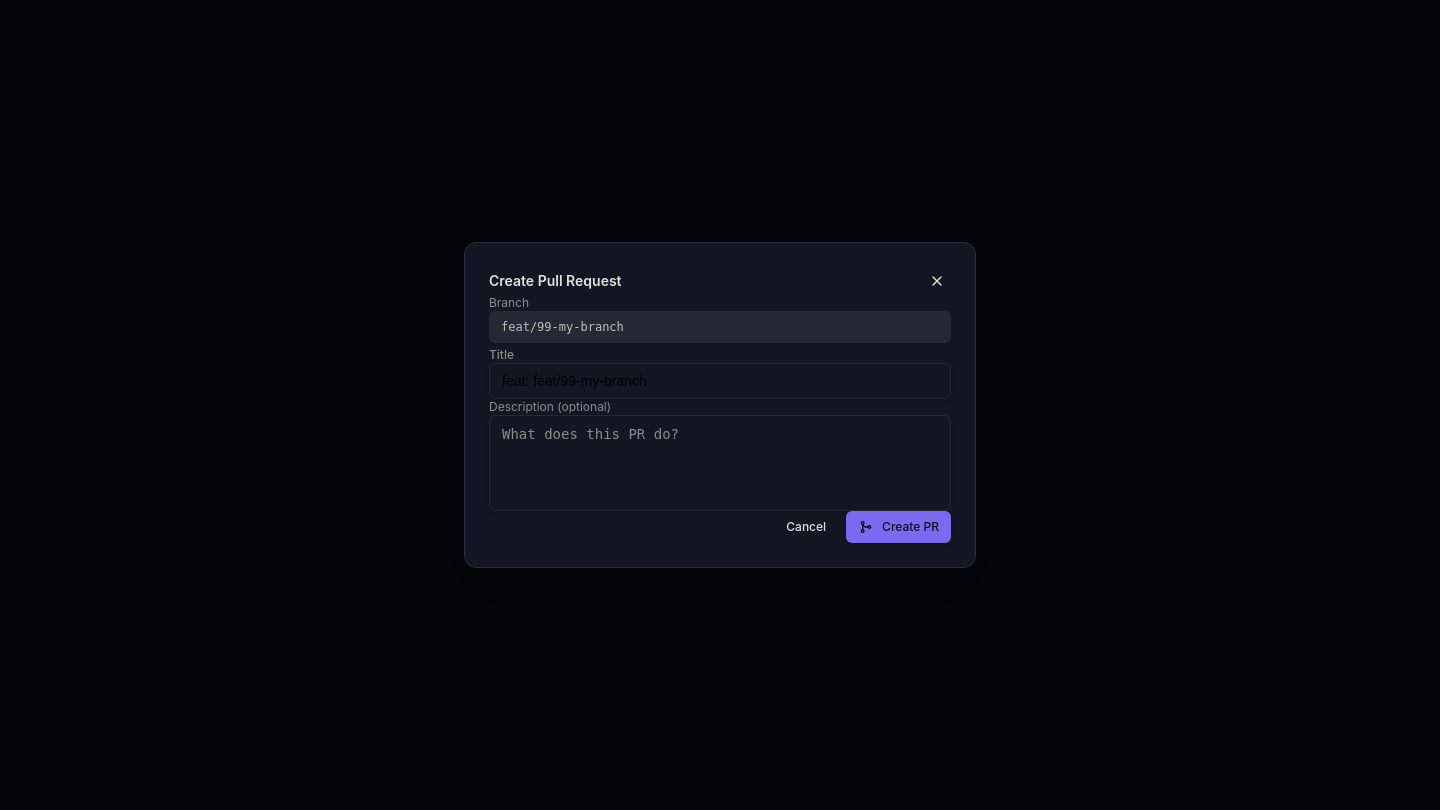
Test: PRCreateModal › title が空のとき Create PR ボタンが disabled
Clear the field at (720, 381), box [489,363,951,399]
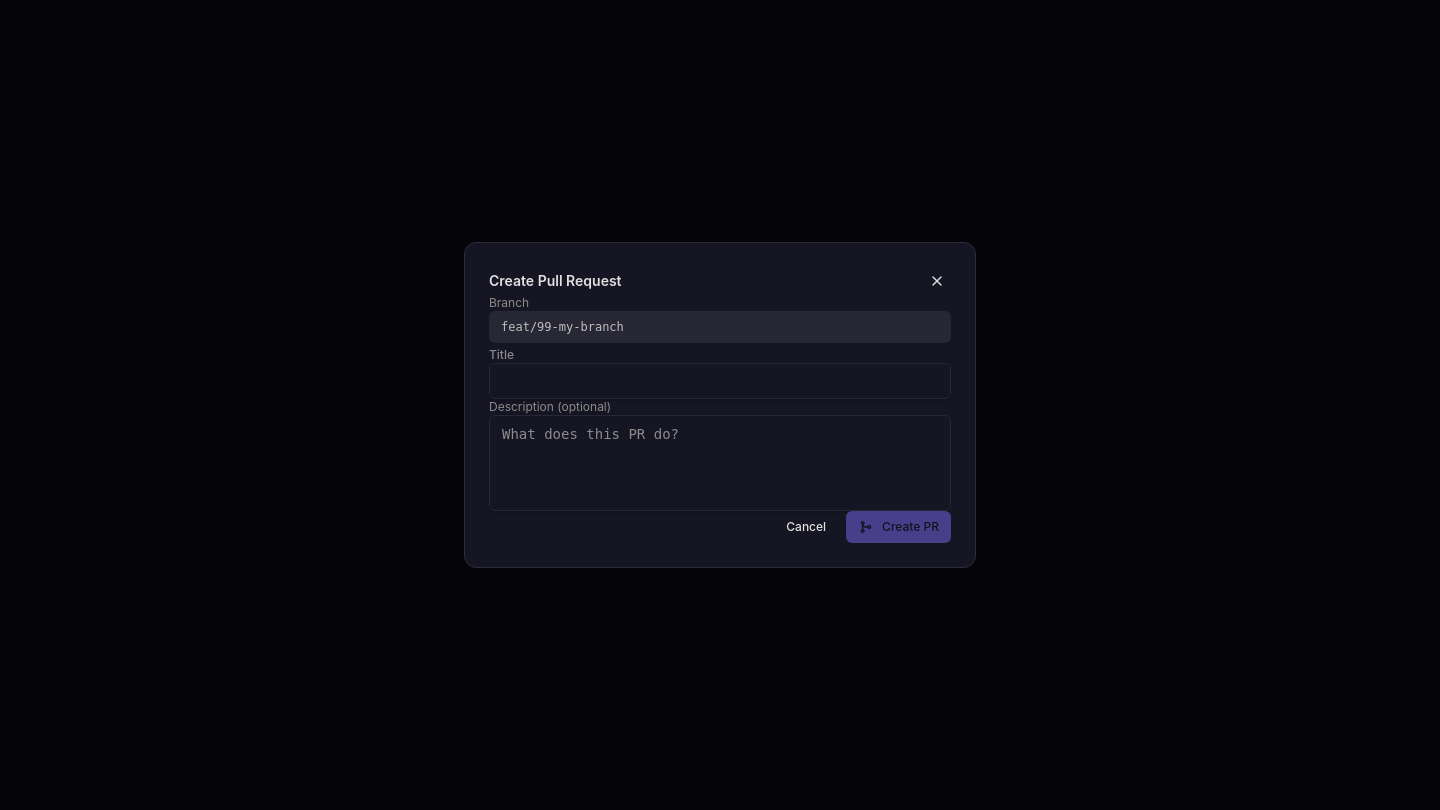
Expected: the button "Create PR" is disabled, [846,511,951,543]
